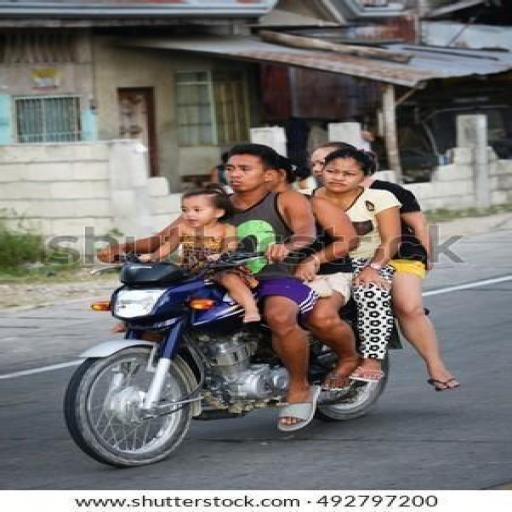no helmet: (217, 138, 284, 219)
triple riding: (60, 130, 466, 472)
